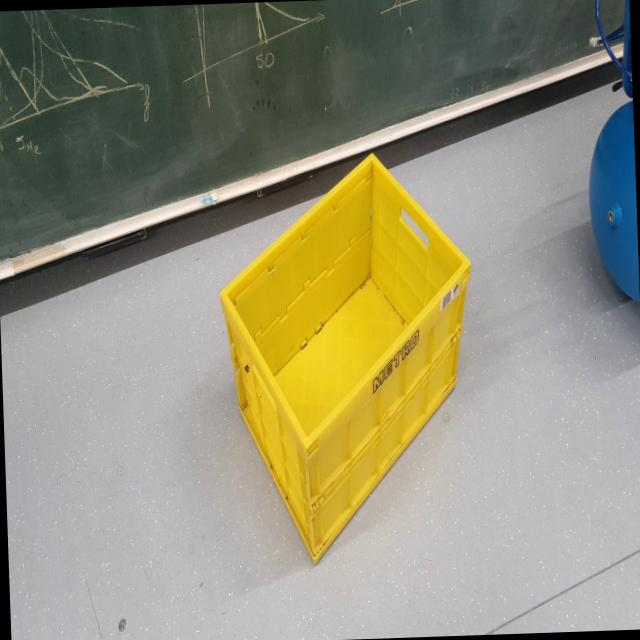box: (202, 132, 483, 568)
